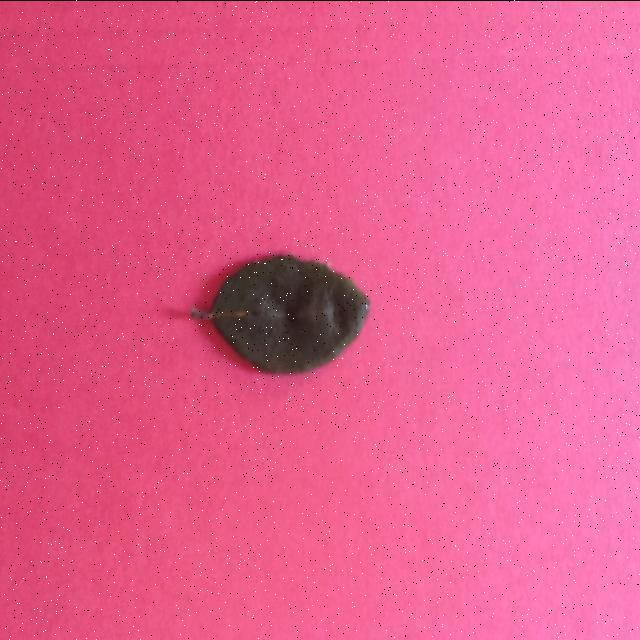foliage: (188, 253, 370, 375)
